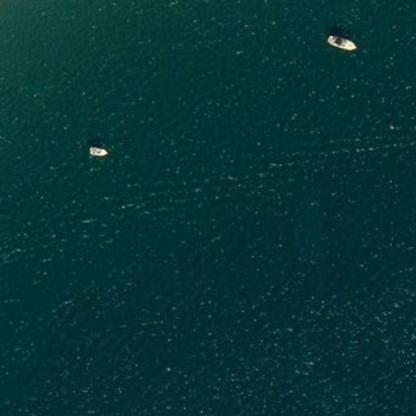ship: (320, 28, 364, 56), (84, 138, 113, 164)
